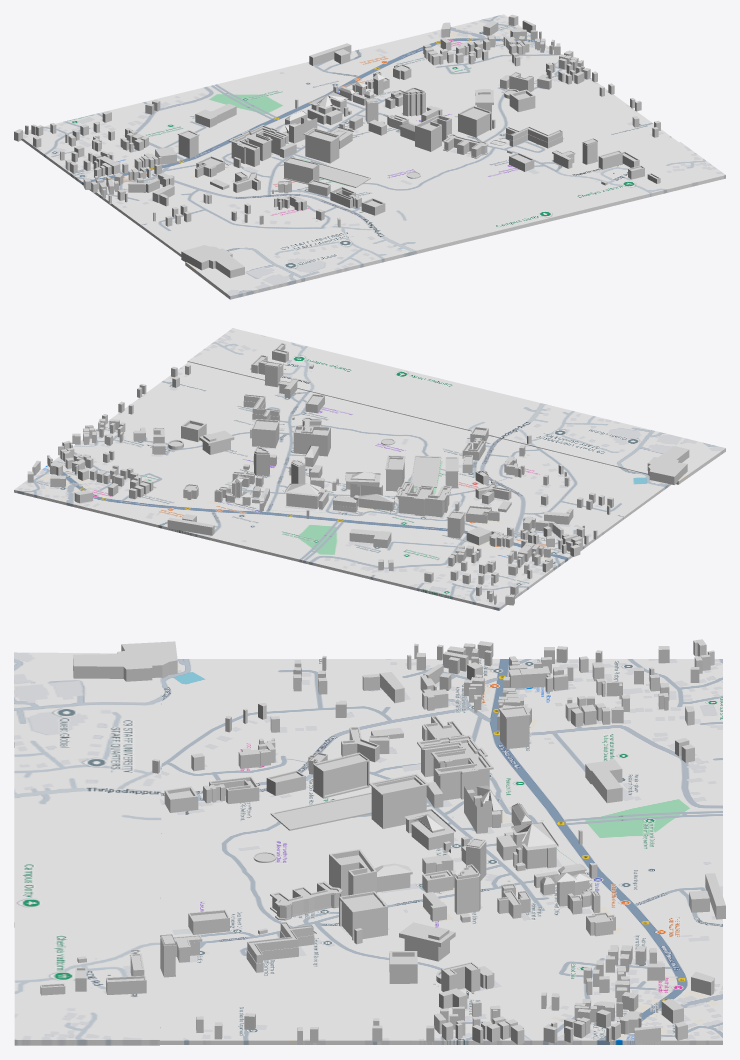
The picture shows the model from 3 angles, top to bottom: view 1: azimuth 30°, elevation 25°; view 2: azimuth 150°, elevation 25°; view 3: azimuth 270°, elevation 25°; orthographic projection. The views are drawn at different scales.
Parts seen in each view (by area): view 1: EXPORT_GOOGLE_MAP_WM, EXPORT_GOOGLE_MAP_WM.001, UGC - Human Resource Development Centre, Leela building, Department_Of_Physics_Microwave_Materials, 798419268, 1202708224, Political Science, Economics, Sociology, History, FYUG_Girls_Hostel, Cube.003, Department of Future Studies, Kerala Highway Research Institute (+4 smaller); view 2: EXPORT_GOOGLE_MAP_WM, EXPORT_GOOGLE_MAP_WM.001, UGC - Human Resource Development Centre, Leela building, 798419268, Science Block II, Cube.003, 1202708224, Department_Of_Physics_Microwave_Materials, Kerala Highway Research Institute, Political Science, Economics, Sociology, History, School_Of_Distance_Education (+5 smaller); view 3: EXPORT_GOOGLE_MAP_WM, EXPORT_GOOGLE_MAP_WM.001, UGC - Human Resource Development Centre, Leela building, Department_Of_Physics_Microwave_Materials, FYUG_Girls_Hostel, Cube.003, 1202708224, 798419268, Political Science, Economics, Sociology, History, Department of Future Studies, Science Block II (+17 smaller).
Boxes of the visible parts, x1=… form: EXPORT_GOOGLE_MAP_WM: x1=21, y1=14, x2=678, y2=256; EXPORT_GOOGLE_MAP_WM.001: x1=185, y1=142, x2=725, y2=299; UGC - Human Resource Development Centre: x1=228, y1=125, x2=288, y2=166; Leela building: x1=181, y1=245, x2=244, y2=278; Department_Of_Physics_Microwave_Materials: x1=303, y1=128, x2=340, y2=163; 798419268: x1=415, y1=114, x2=451, y2=151; 1202708224: x1=458, y1=106, x2=491, y2=137; Political Science, Economics, Sociology, History: x1=505, y1=127, x2=562, y2=148; FYUG_Girls_Hostel: x1=283, y1=157, x2=319, y2=184; Cube.003: x1=309, y1=160, x2=370, y2=187; Department of Future Studies: x1=443, y1=134, x2=488, y2=158; Kerala Highway Research Institute: x1=195, y1=103, x2=236, y2=127; EXPORT_GOOGLE_MAP_WM: x1=14, y1=362, x2=671, y2=610; EXPORT_GOOGLE_MAP_WM.001: x1=187, y1=328, x2=725, y2=484; UGC - Human Resource Development Centre: x1=395, y1=481, x2=451, y2=517; Leela building: x1=647, y1=446, x2=689, y2=484; 798419268: x1=293, y1=425, x2=330, y2=456; Science Block II: x1=284, y1=483, x2=322, y2=508; Cube.003: x1=411, y1=455, x2=441, y2=487; 1202708224: x1=252, y1=419, x2=279, y2=448; Department_Of_Physics_Microwave_Materials: x1=385, y1=455, x2=405, y2=491; Kerala Highway Research Institute: x1=349, y1=529, x2=391, y2=548; Political Science, Economics, Sociology, History: x1=243, y1=394, x2=279, y2=420; School_Of_Distance_Education: x1=199, y1=430, x2=234, y2=454; EXPORT_GOOGLE_MAP_WM: x1=160, y1=659, x2=722, y2=1044; EXPORT_GOOGLE_MAP_WM.001: x1=14, y1=652, x2=161, y2=1045; UGC - Human Resource Development Centre: x1=417, y1=735, x2=493, y2=800; Leela building: x1=73, y1=641, x2=177, y2=681; Department_Of_Physics_Microwave_Materials: x1=369, y1=773, x2=429, y2=828; FYUG_Girls_Hostel: x1=313, y1=752, x2=369, y2=798; Cube.003: x1=270, y1=792, x2=371, y2=830; 1202708224: x1=339, y1=891, x2=387, y2=940; 798419268: x1=329, y1=849, x2=376, y2=896; Political Science, Economics, Sociology, History: x1=246, y1=922, x2=314, y2=972; Department of Future Studies: x1=270, y1=881, x2=342, y2=920; Science Block II: x1=511, y1=822, x2=558, y2=869.
Size of what is drawn, in the model's own units: 1257 by 62.06 by 964.
Materials: 3 (2 with a texture image).
